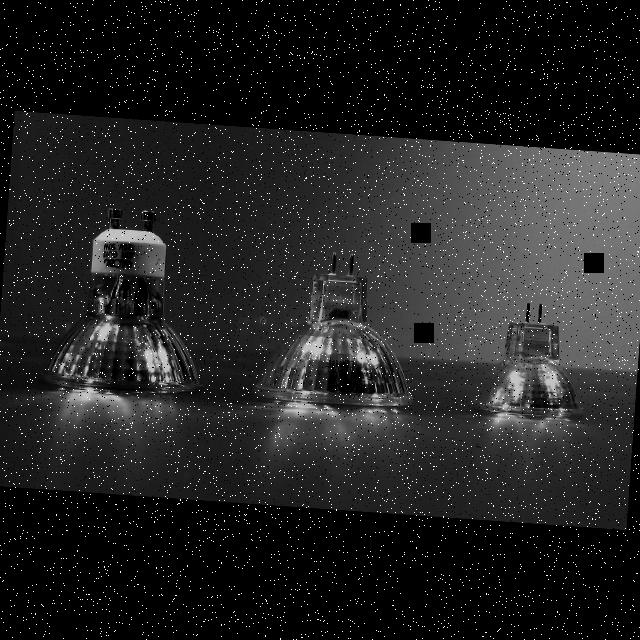light_bulb: (40, 203, 212, 398), (250, 247, 431, 408), (472, 299, 596, 423)
